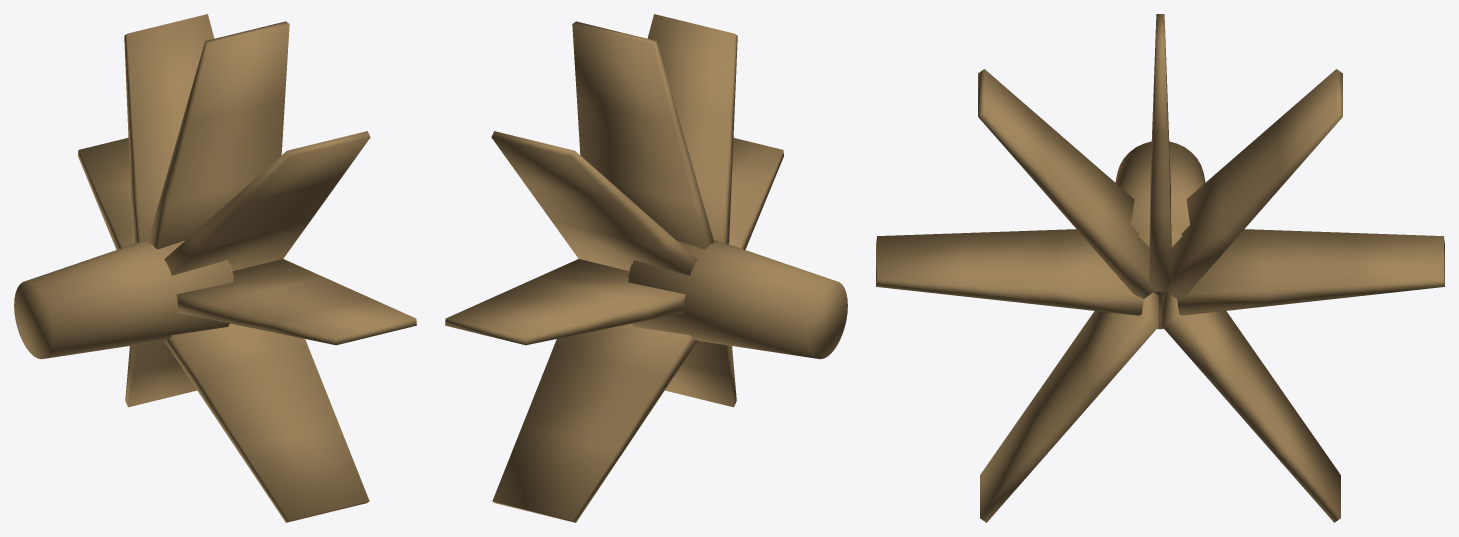
File: US_SSN_Skipjack_PROPULSOR_01.fbx
The picture shows the model from 3 angles, left to right: view 1: azimuth 30°, elevation 25°; view 2: azimuth 150°, elevation 25°; view 3: azimuth 270°, elevation 25°; orthographic projection. The views are drawn at different scales.
Parts seen in each view (by area): view 1: US_SSN_Skipjack_PROPULSOR_01; view 2: US_SSN_Skipjack_PROPULSOR_01; view 3: US_SSN_Skipjack_PROPULSOR_01.
Part boxes in pixels (x1,y1,x2,y2): US_SSN_Skipjack_PROPULSOR_01: (14,14,416,522); US_SSN_Skipjack_PROPULSOR_01: (445,14,847,522); US_SSN_Skipjack_PROPULSOR_01: (876,14,1444,522).
Bounding box in the file's own units: 2.2 × 3.88 × 3.5.
